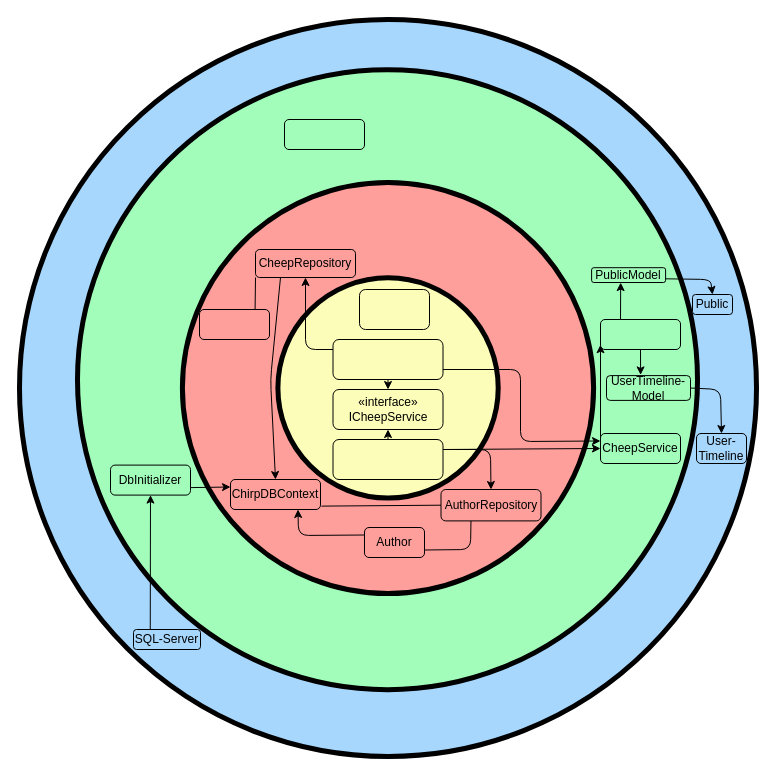
Some shapes in this 776 by 776 pixel diagram are drawn without their labels. Here are the shapes that lost their labels. From the top down, the box of each, then its label:
(284, 118, 364, 150): Program
(198, 308, 270, 340): Cheep
(358, 288, 430, 330): CheepDTO AuthorDTO
(600, 318, 680, 350): PageModel
(332, 338, 443, 380): «interface» ICheepRepository
(332, 438, 443, 480): «interface» IAuthorRepository
